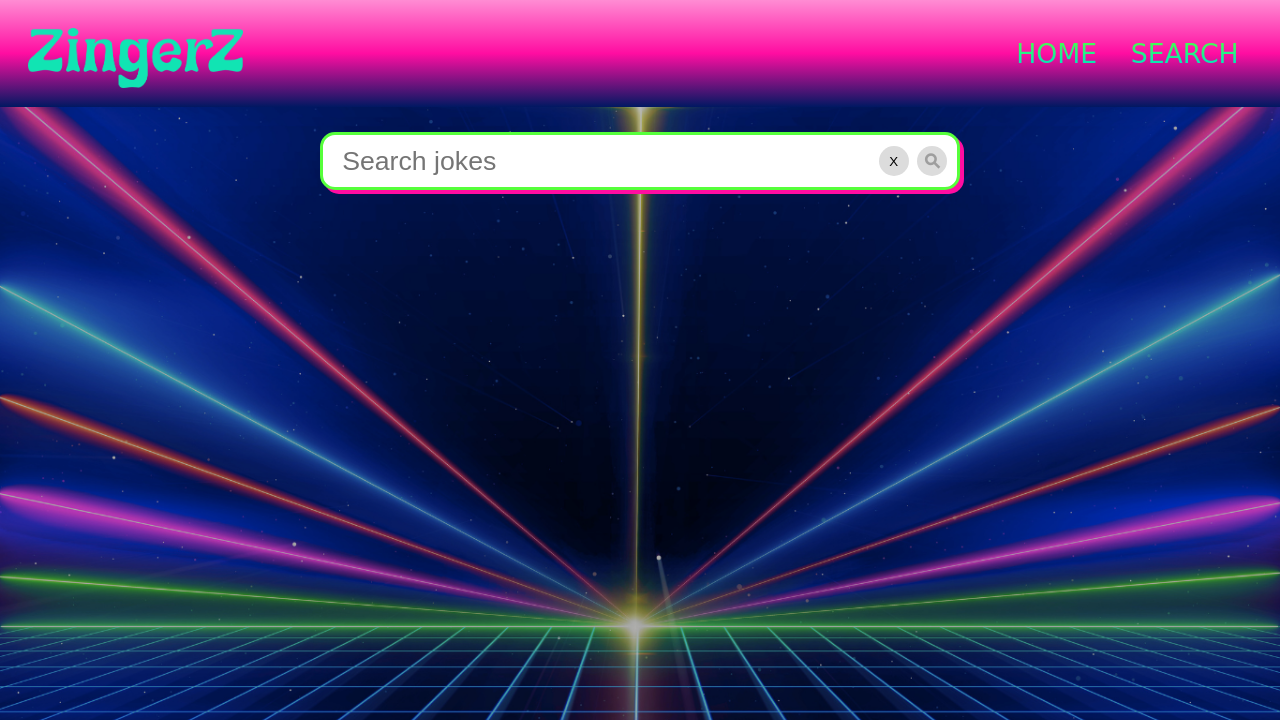
it: sad paths › should see 404 error in the case of a bad GET response
Step 1. Type "cat" into the field with placeholder "Search jokes" → (640, 161), box [320,132,960,190]
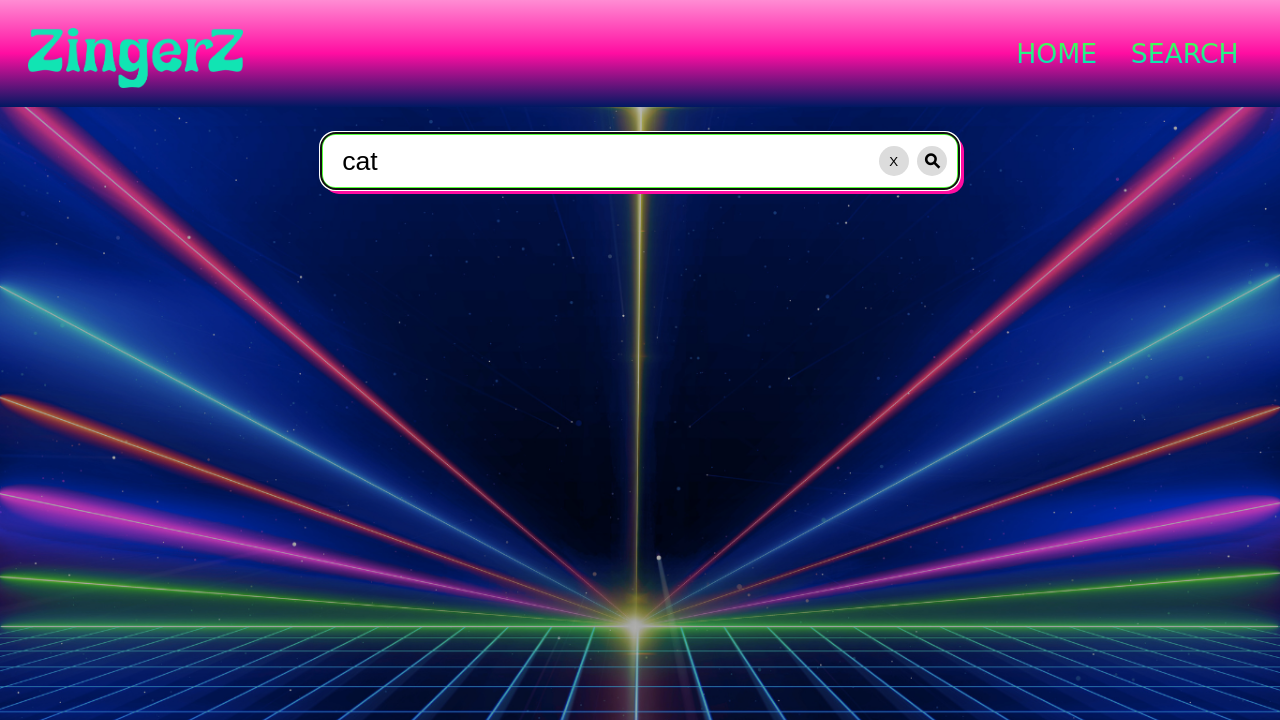
Step 2. Click the button with class "search-btn" → click(932, 161), box [911,140,953,182]
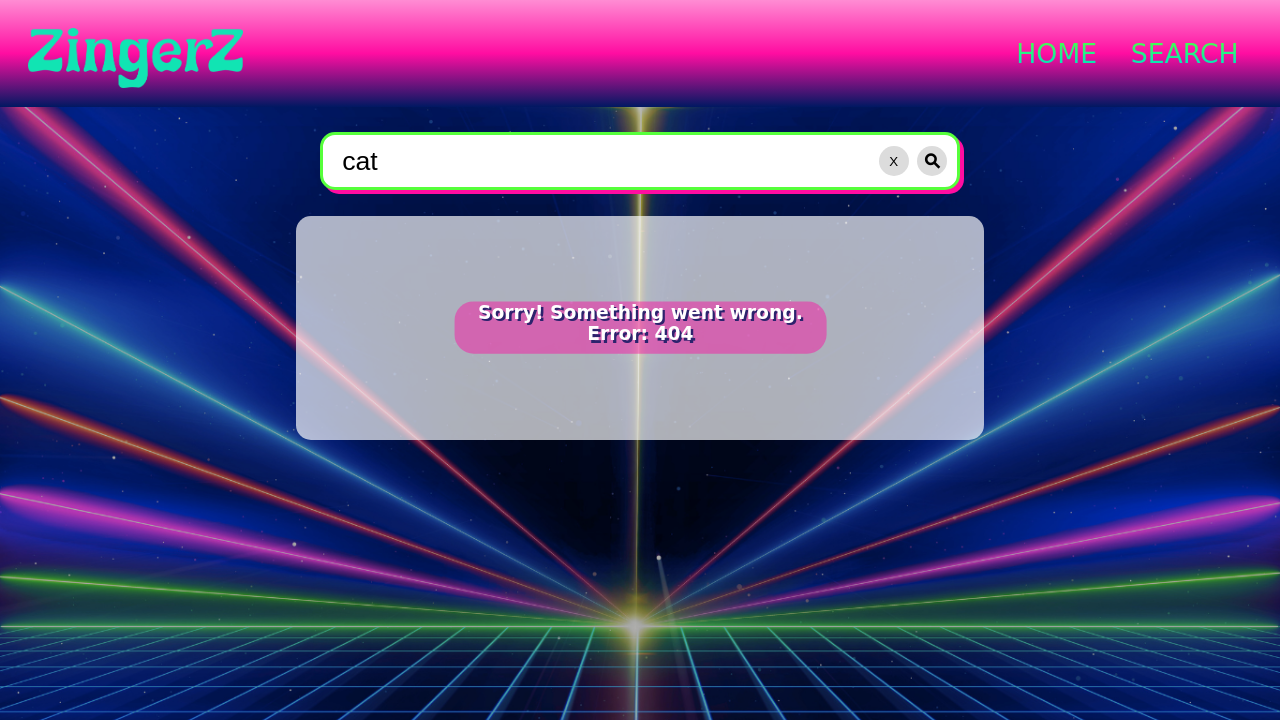
Expected: the heading "Sorry! Something went wrong. Error: 404" is shown, [456,302,824,354]
